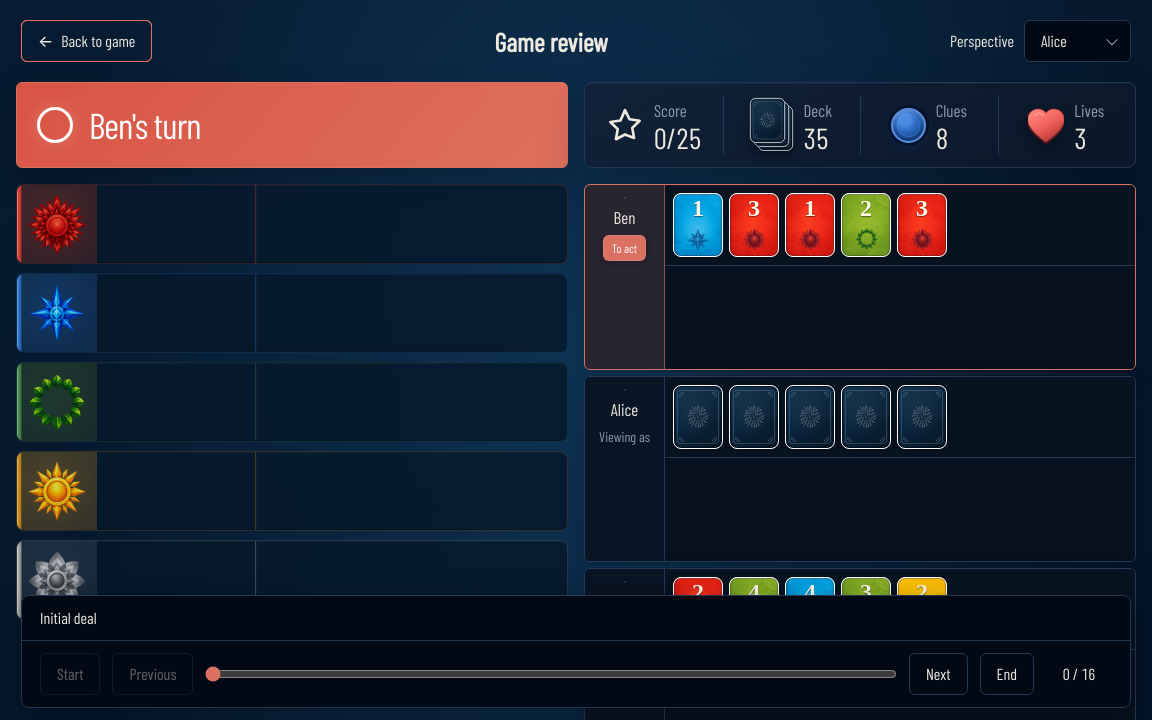
HanabiReview › switches concealed hands without reordering seats or changing the moment
Step 1. Click the button "Next" → (938, 674), box 909,653 -> 968,695
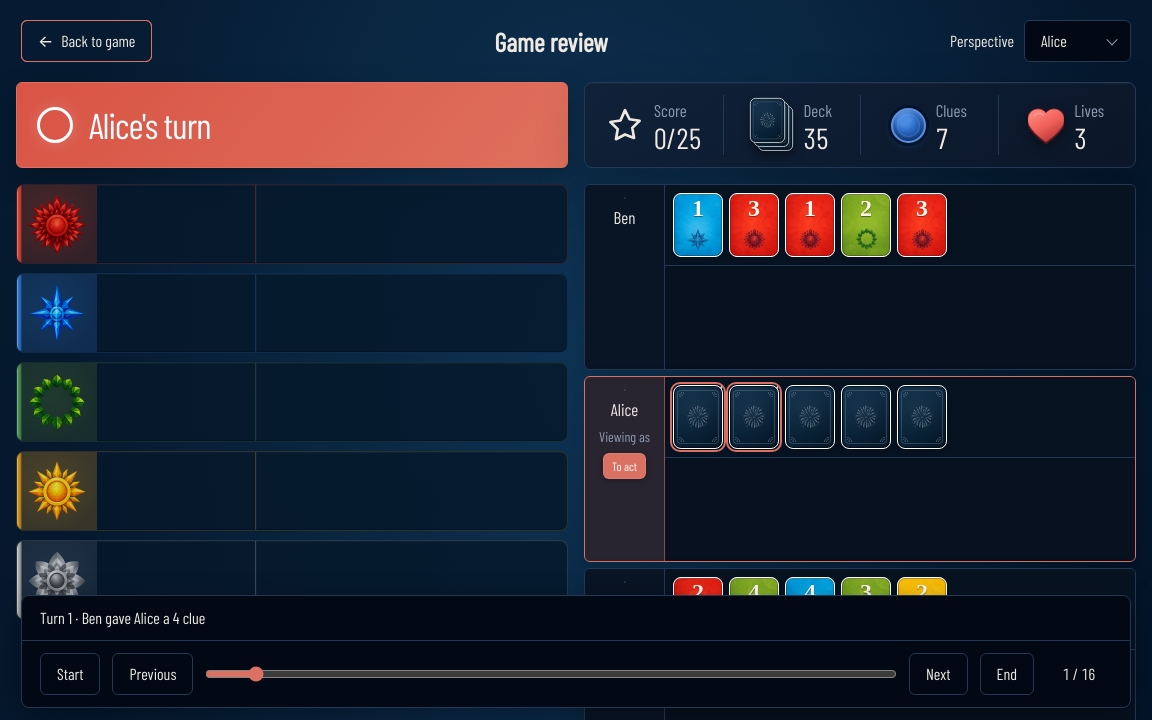
Step 2. Select "Ben" in the dropdown labelled "Perspective" → (1078, 41), box 1024,20 -> 1131,62
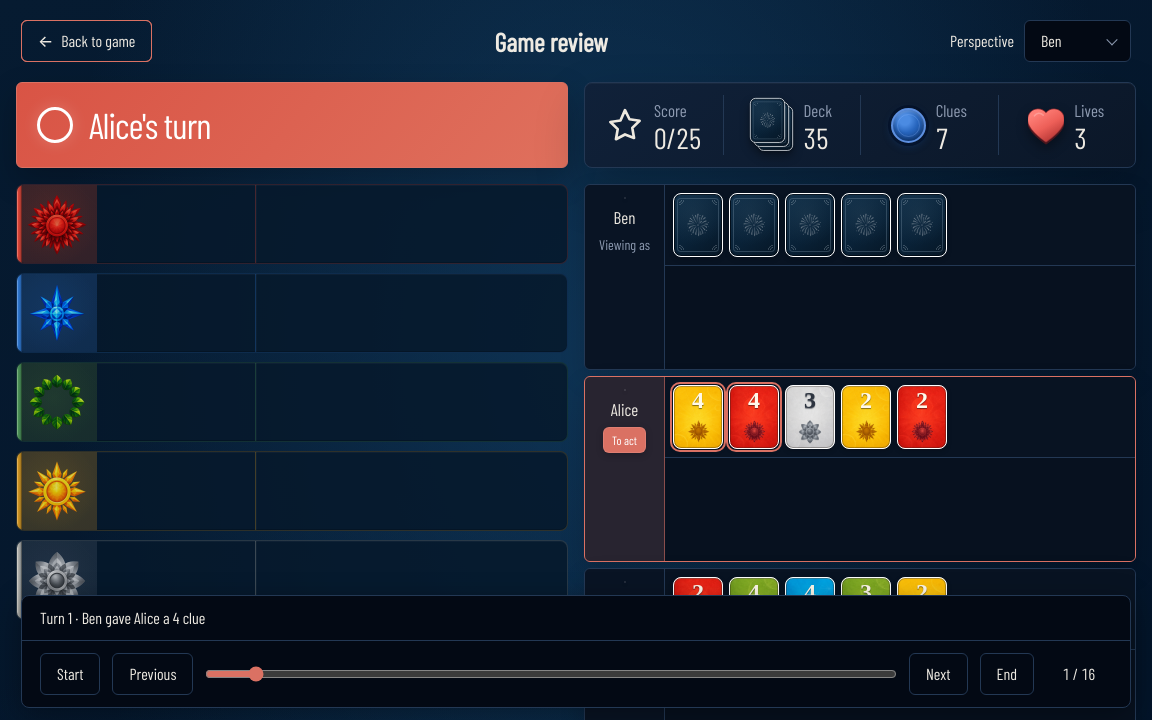
Step 3. Select "All hands" in the dropdown labelled "Perspective" → (1078, 41), box 1024,20 -> 1131,62
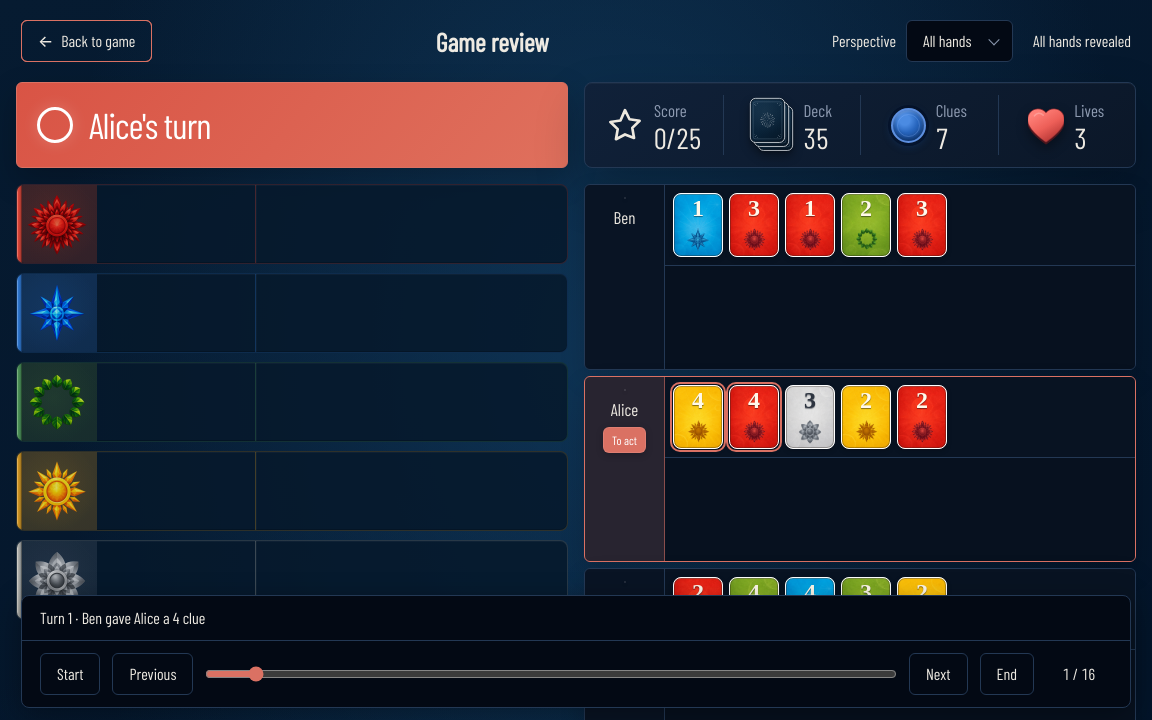
Expected: the text "All hands revealed" is shown, 1033,29 -> 1131,53
Step 4. Select "Ben" in the dropdown labelled "Perspective" → (960, 41), box 906,20 -> 1013,62
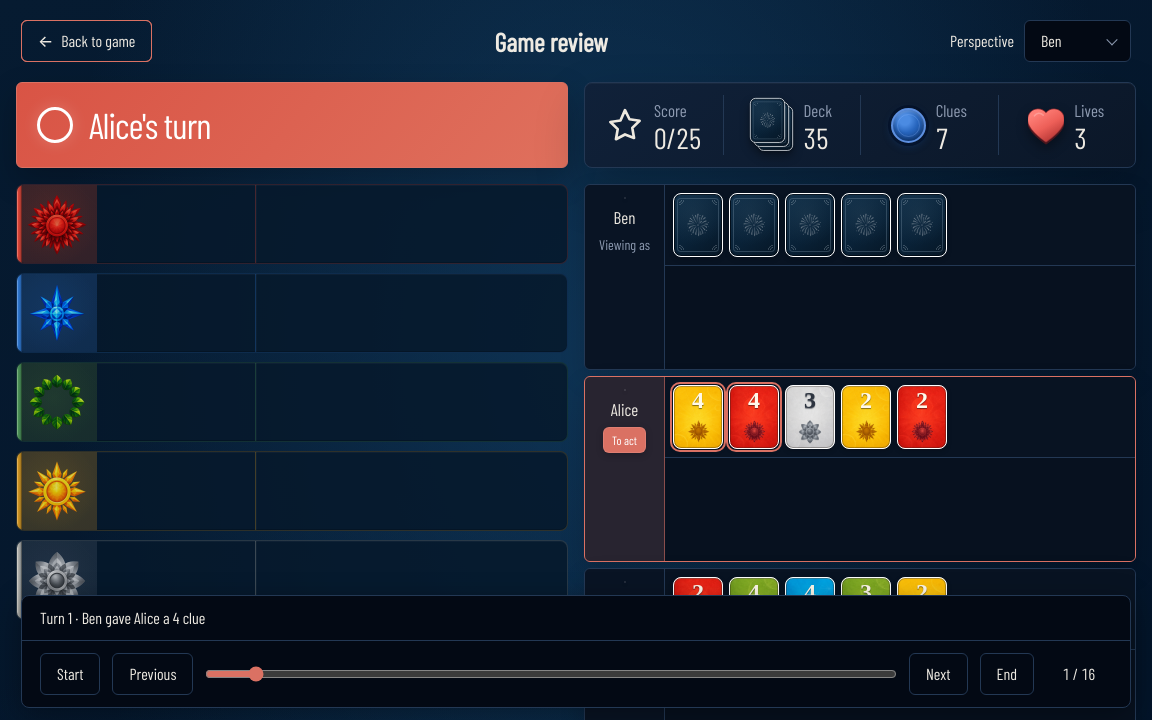
Expected: the text "All hands revealed" is gone
